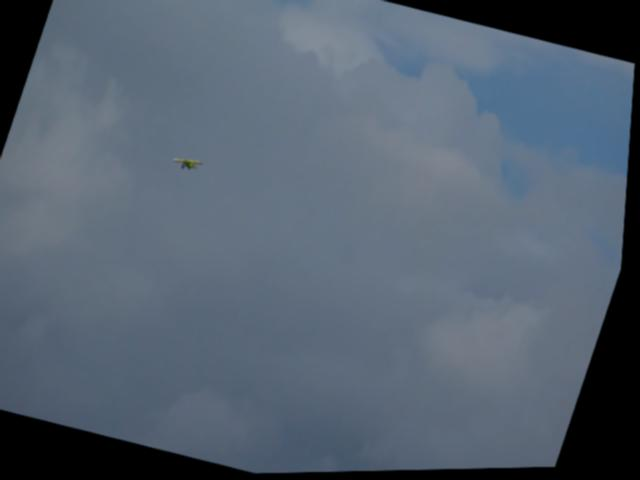plane: (174, 155, 207, 177)
